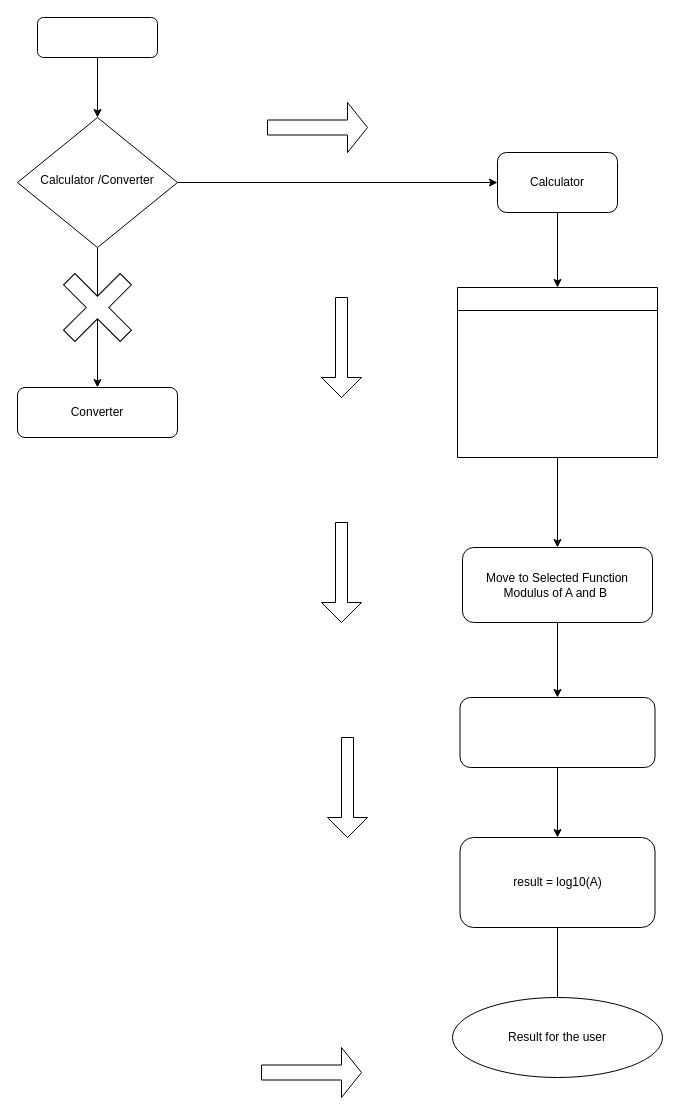
Image size: 680x1115. Some labels were removed from this diagram. Here are the shapes that lost their labels. From the top down, the centre of each, then its label:
the point at 97,37: User interface
the point at 557,372: Function of Calculator 16. Modulus of A and B
the point at 557,732: Enter the values for A and B
